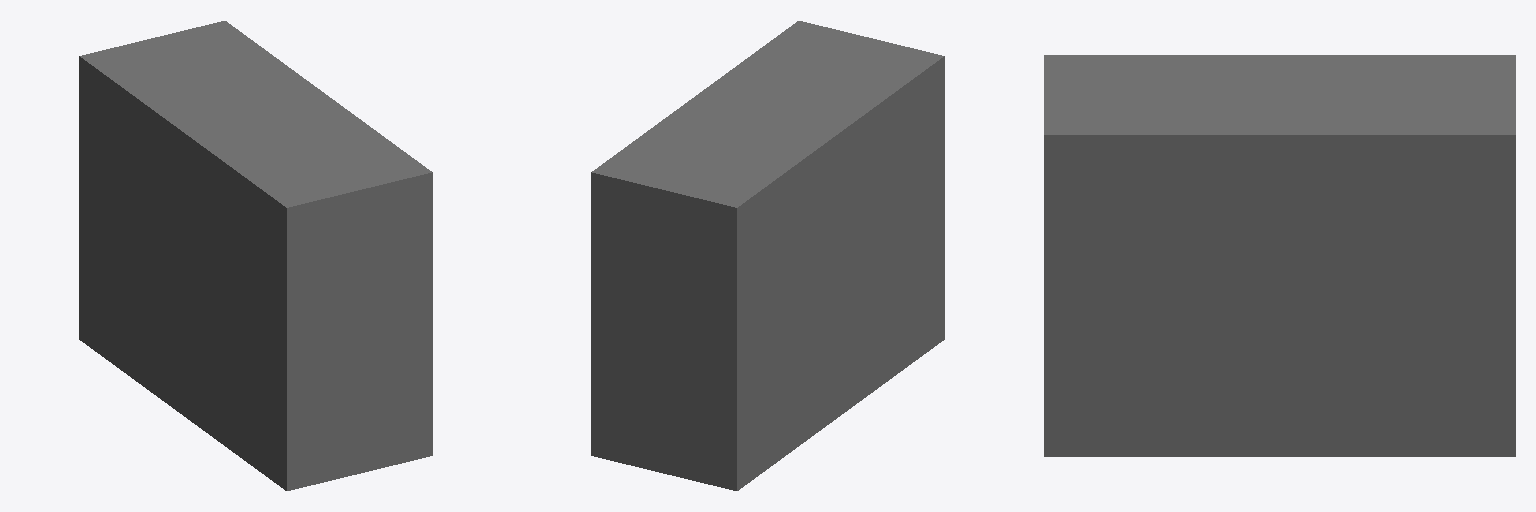
The robot description file, URDF, robot "box.urdf":
<?xml version="1.0" ?>
<robot name="box.urdf">
  <link name="baseLink">
    <contact>
      <lateral_friction value="1.0"/>
      <rolling_friction value="0.0001"/>
      <inertia_scaling value="3.0"/>
    </contact>
    <inertial>
      <origin rpy="0 0 0" xyz="0 0 0"/>
       <mass value="0.1"/>
       <inertia ixx="1" ixy="0" ixz="0" iyy="1" iyz="0" izz="1"/>
    </inertial>
    <visual>
      <origin rpy="0 0 0" xyz="0 0 0"/>
      <geometry>
        <!-- <box size="0.147 0.36200000000000004 0.273"/> -->
        <mesh filename="box/box.obj" scale="0.147 0.36200000000000004 0.273"/>
      </geometry>
      <material name="white">
        <color rgba="0.5 0.5 0.5 1"/>
      </material>
    </visual>
    <collision>
      <origin rpy="0 0 0" xyz="0 0 0"/>
      <geometry>
        <mesh filename="box/box.obj" scale="0.147 0.36200000000000004 0.273"/>
	 	    <!-- <box size="0.147 0.36200000000000004 0.273"/> -->
      </geometry>
    </collision>
  </link>
</robot>

--- Render facts (derived) ---
Views: 3 orthographic renders of the robot side by side, from view 1: azimuth 30°, elevation 25°; view 2: azimuth 150°, elevation 25°; view 3: azimuth 270°, elevation 25°.
Robot: box.urdf — 1 links, 0 joints (none); root link baseLink; default pose: every joint at zero.
Links seen in each view (by area): view 1: baseLink; view 2: baseLink; view 3: baseLink.
Link boxes in pixels (bbox=[...]): baseLink: bbox=[79, 21, 432, 490]; baseLink: bbox=[591, 21, 944, 490]; baseLink: bbox=[1044, 55, 1515, 456].
Bounding box of the posed robot: 0.147 × 0.362 × 0.273 m (x, y, z).
1 mesh visuals loaded from 1 distinct referenced files (1 OBJ).
